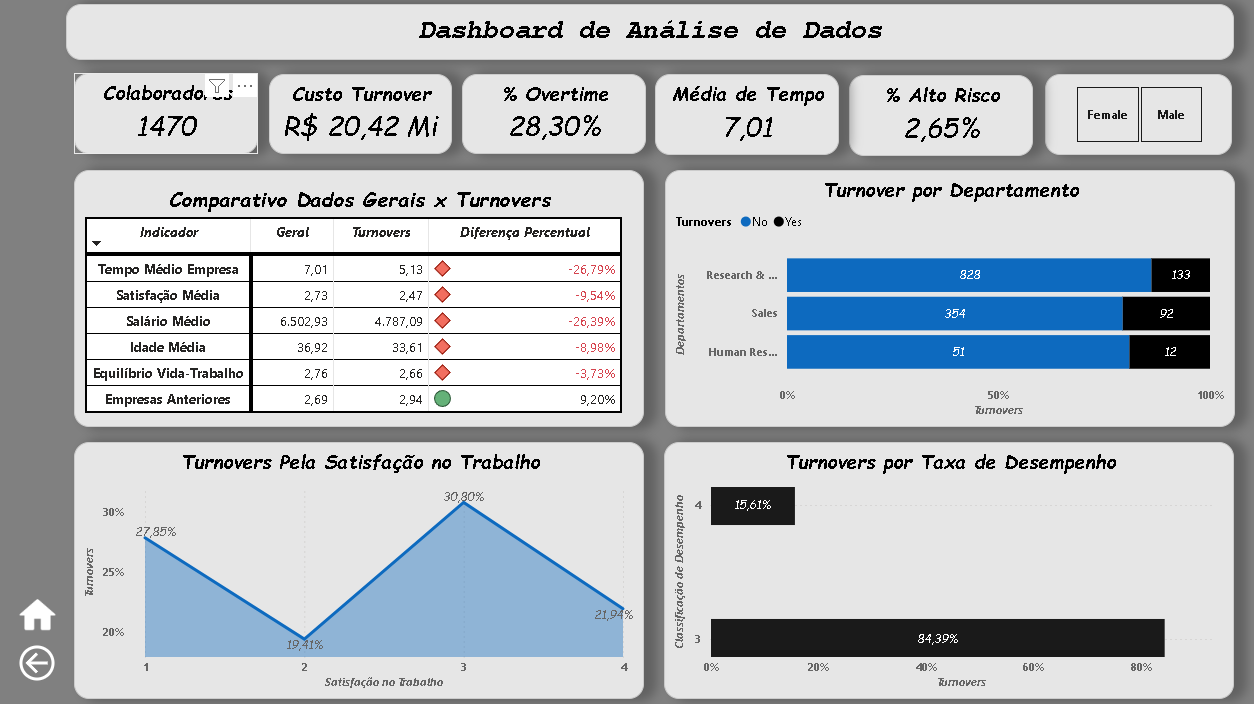

The page's visual inventory and layout, read from the dashboard file:
{"tool":"powerbi","page":{"name":"Dash2","canvas":[1280,720],"ordinal":2},"visuals":[{"type":"textbox","box":[73,10,1168,56.2],"z":0},{"type":"card","title":"Colaboradores","fields":{"Values":["Sum(dados.EmployeeCount)"]},"box":[81,79,183.5,80.8],"z":1000},{"type":"hundredPercentStackedBarChart","title":"Turnover por Departamento","fields":{"Y":["CountNonNull(dados.Department)"],"Series":["dados.Attrition"],"Category":["dados.Department"]},"box":[671.7,175.6,570,257],"z":2000},{"type":"barChart","title":"Turnovers por Taxa de Desempenho","fields":{"Category":["dados.PerformanceRating"],"Y":["dados.YesAttrition"]},"box":[671.4,448,570,257],"z":3000},{"type":"actionButton","box":[21.1,629.6,45.7,77.3],"z":4000},{"type":"lineChart","title":"Turnovers Pela Satisfação no Trabalho","fields":{"Y":["dados.YesAttrition"],"Category":["dados.JobSatisfaction"]},"box":[81,448,570,257],"z":5000},{"type":"pivotTable","title":"Comparativo Dados Gerais x Turnovers","fields":{"Rows":["Indicadores.Indicador"],"Values":["Indicadores.Geral","Indicadores.Turnovers","Indicadores.Diferença Percentual"]},"box":[81,175.8,570,257],"z":6000},{"type":"slicer","fields":{"Values":["dados.Gender"]},"box":[1052,79.9,187,80.8],"z":7000},{"type":"card","title":"Custo Turnover","fields":{"Values":["dados.custo turnover"]},"box":[276,79.8,183,80.7],"z":8000},{"type":"card","title":"% Overtime","fields":{"Values":["dados.% overtime"]},"box":[468.8,79.8,183.8,80.7],"z":9000},{"type":"card","title":"% Alto Risco","fields":{"Values":["dados.% alto risco"]},"box":[856,80.8,183.5,80.8],"z":10000},{"type":"card","title":"Média de Tempo","fields":{"Values":["Avg(dados.Tempo Médio de Casa)"]},"box":[662,79.9,183.5,80.8],"z":11000},{"type":"image","box":[21.4,602.1,45.7,38.9],"z":11001}]}

Visuals, with their boxes in screenshot pixels (x1, y1, x2, y2), scaled from the page's 1280x720 canvas onto the 1254x704 screenshot:
textbox: locate(72, 10, 1216, 65)
"Colaboradores" card: locate(79, 77, 259, 156)
"Turnover por Departamento" hundredPercentStackedBarChart: locate(658, 172, 1216, 423)
"Turnovers por Taxa de Desempenho" barChart: locate(658, 438, 1216, 689)
actionButton: locate(21, 616, 65, 691)
"Turnovers Pela Satisfação no Trabalho" lineChart: locate(79, 438, 638, 689)
"Comparativo Dados Gerais x Turnovers" pivotTable: locate(79, 172, 638, 423)
slicer - dados.Gender: locate(1031, 78, 1214, 157)
"Custo Turnover" card: locate(270, 78, 450, 157)
"% Overtime" card: locate(459, 78, 639, 157)
"% Alto Risco" card: locate(839, 79, 1018, 158)
"Média de Tempo" card: locate(649, 78, 828, 157)
image: locate(21, 589, 66, 627)
